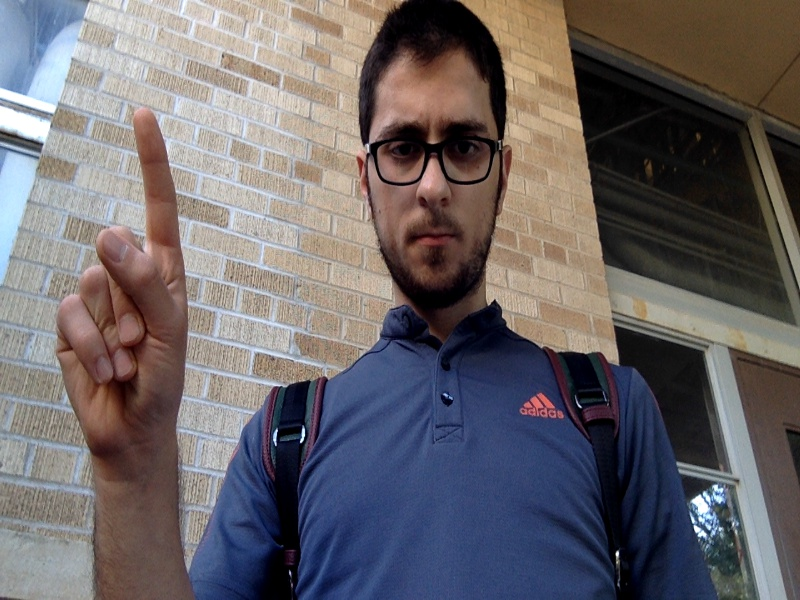1-hand: (56, 109, 188, 469)
